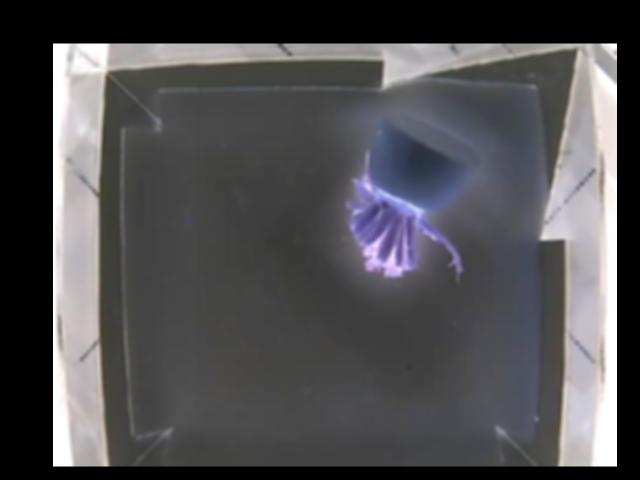Mooli: (349, 110, 474, 280)
